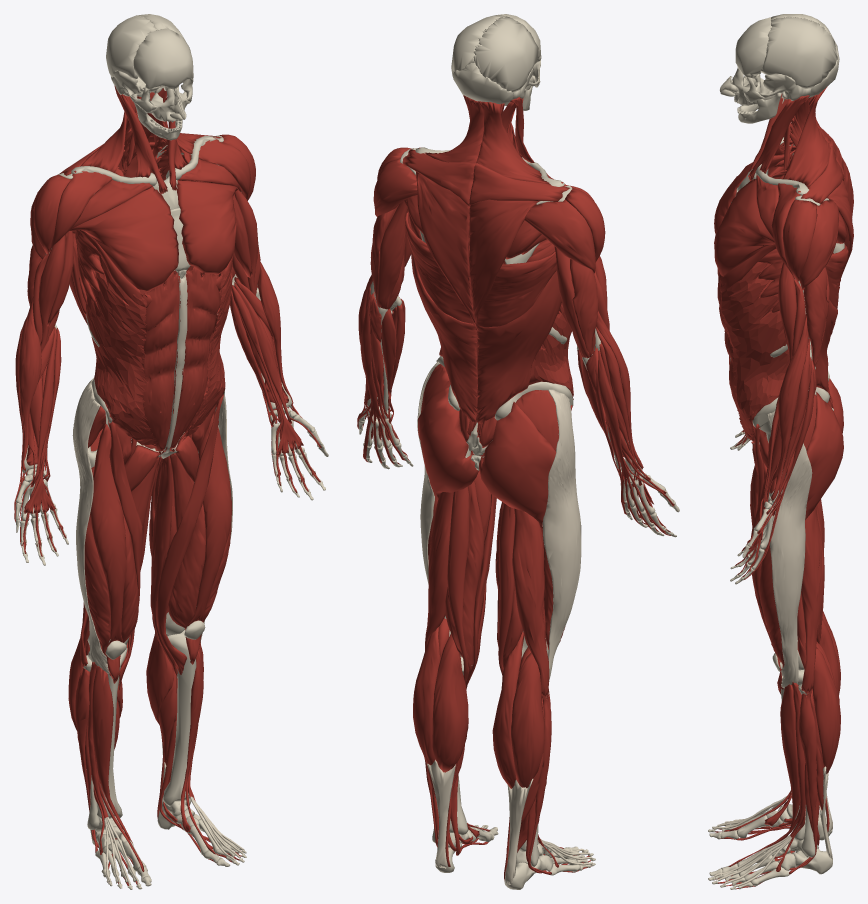
The model's file is male-anatomy.glb.
The picture shows the model from 3 angles, left to right: view 1: azimuth 30°, elevation 25°; view 2: azimuth 150°, elevation 25°; view 3: azimuth 270°, elevation 25°; orthographic projection. The views are drawn at different scales.
Parts seen in each view (by area): view 1: External abdominal oblique muscle right, Sternocostal head of pectoralis major muscle right, Rectus abdominis muscle right, Rectus femoris muscle right, Sternocostal head of pectoralis major muscle left, Rectus abdominis muscle left, Rectus femoris muscle left, Sartorius muscle left, Iliotibial tract right, Frontal bone.001, Tibia left, Vastus medialis muscle left (+46 smaller); view 2: Latissimus dorsi muscle right, Iliotibial tract right, Latissimus dorsi muscle left, Gluteus maximus muscle right, Descending part of trapezius muscle left, Long head of biceps femoris right, Descending part of trapezius muscle right, Gluteus maximus muscle left, Medial head of gastrocnemius left, Parietal bone right, Lateral head of gastrocnemius right, Scapular spinal part of deltoid muscle right (+36 smaller); view 3: External abdominal oblique muscle left, Iliotibial tract left, Parietal bone left, Sternocostal head of pectoralis major muscle left, Long head of biceps femoris left, Gluteus maximus muscle left, Lateral head of gastrocnemius left, Ascending part of trapezius muscle left, Brachioradialis muscle left, Acromial part of deltoid muscle left, Scapular spinal part of deltoid muscle left, Fibularis longus muscle left (+42 smaller).
Boxes of the visible parts, x1,y1,x2,y2 form: External abdominal oblique muscle right: (85,256,180,445); Sternocostal head of pectoralis major muscle right: (69,186,178,292); Rectus abdominis muscle right: (143,272,179,451); Rectus femoris muscle right: (89,424,126,683); Sternocostal head of pectoralis major muscle left: (177,180,237,275); Rectus abdominis muscle left: (170,267,219,448); Rectus femoris muscle left: (186,413,232,664); Sartorius muscle left: (156,394,223,674); Iliotibial tract right: (72,377,109,673); Frontal bone.001: (133,28,193,91); Tibia left: (163,630,196,806); Vastus medialis muscle left: (168,504,205,650); Latissimus dorsi muscle right: (476,251,561,423); Iliotibial tract right: (542,389,581,680); Latissimus dorsi muscle left: (405,212,477,421); Gluteus maximus muscle right: (479,402,556,524); Descending part of trapezius muscle left: (415,171,476,325); Long head of biceps femoris right: (512,508,549,696); Descending part of trapezius muscle right: (469,199,539,326); Gluteus maximus muscle left: (418,387,478,499); Medial head of gastrocnemius left: (432,634,468,772); Parietal bone right: (473,16,538,92); Lateral head of gastrocnemius right: (511,652,544,788); Scapular spinal part of deltoid muscle right: (524,200,595,273); External abdominal oblique muscle left: (719,262,789,440); Iliotibial tract left: (767,410,812,688); Parietal bone left: (760,17,837,88); Sternocostal head of pectoralis major muscle left: (714,179,774,276); Long head of biceps femoris left: (801,506,824,693); Gluteus maximus muscle left: (805,392,843,519); Lateral head of gastrocnemius left: (812,647,840,773); Ascending part of trapezius muscle left: (783,86,830,187); Brachioradialis muscle left: (771,314,808,500); Acromial part of deltoid muscle left: (782,199,817,281); Scapular spinal part of deltoid muscle left: (799,200,838,290); Fibularis longus muscle left: (774,689,817,870).
Bounding box in the file's own units: 0.6692 × 1.7 × 0.2674.
